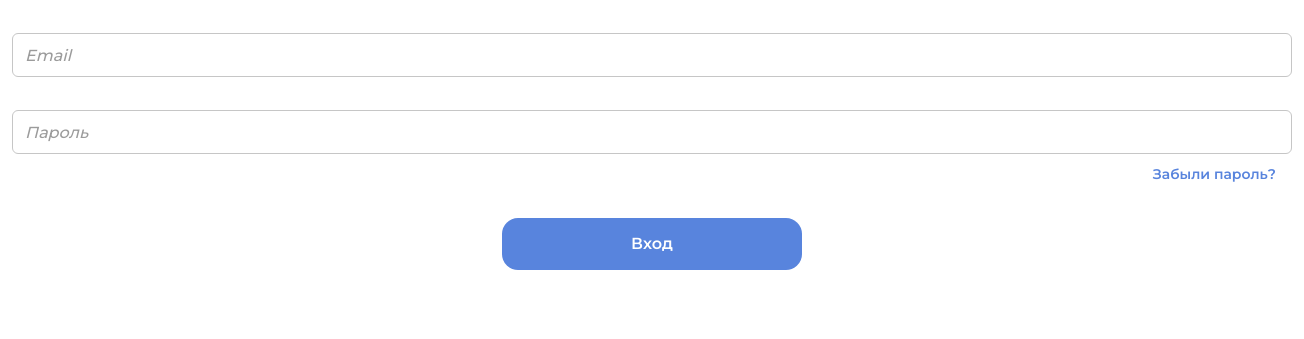
it: SignIn › shows error on wrong credentials
Type "test@test.com" into the field labelled "Email *" at (652, 55), box [12,33,1292,77]
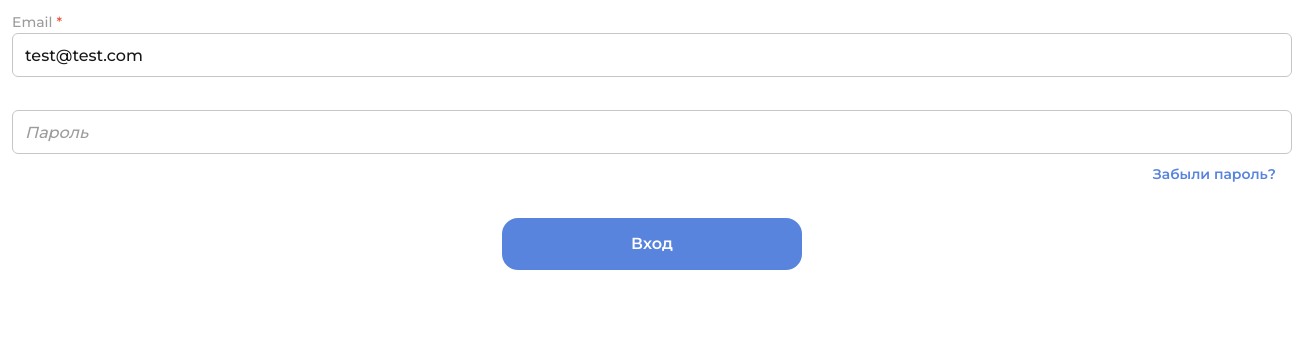
Type "wrongpassword" into the password field labelled "Пароль *" at (652, 132), box [12,110,1292,154]
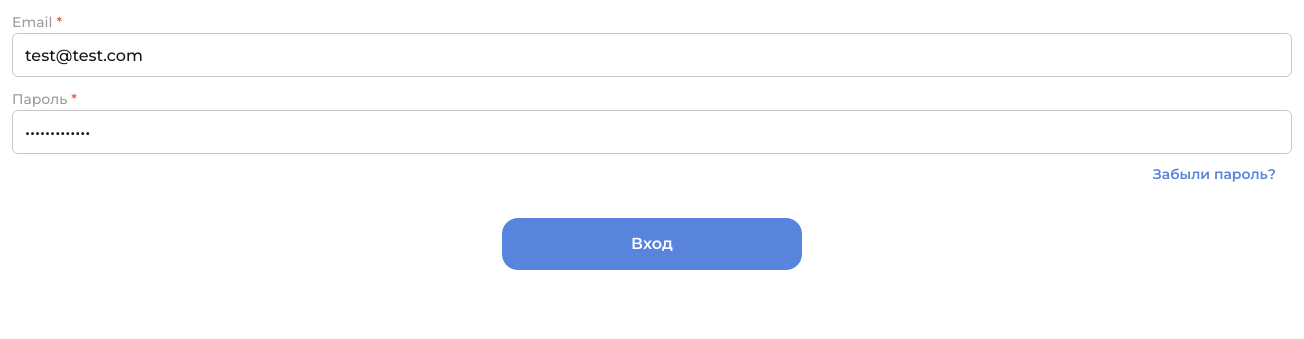
Click the button "Вход" at (652, 244), box [502,218,802,270]
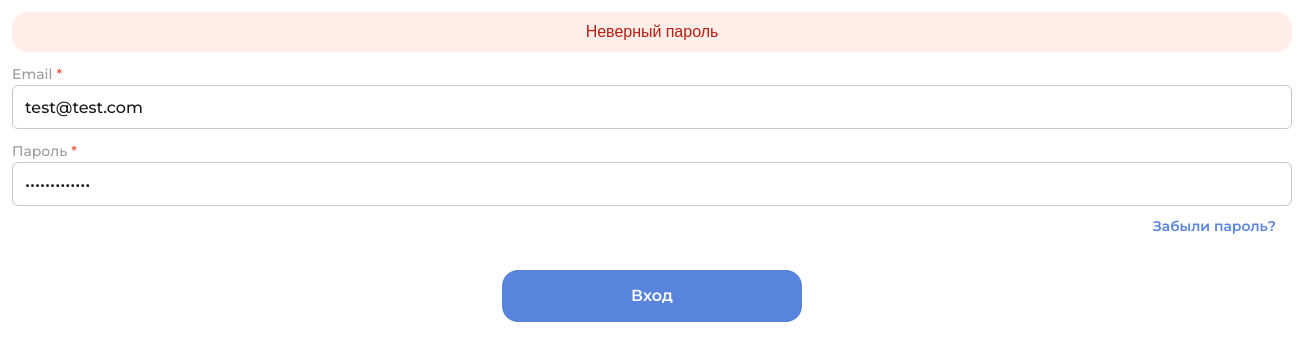
Expected: the text "Неверный пароль" is shown, [12,12,1292,52]
